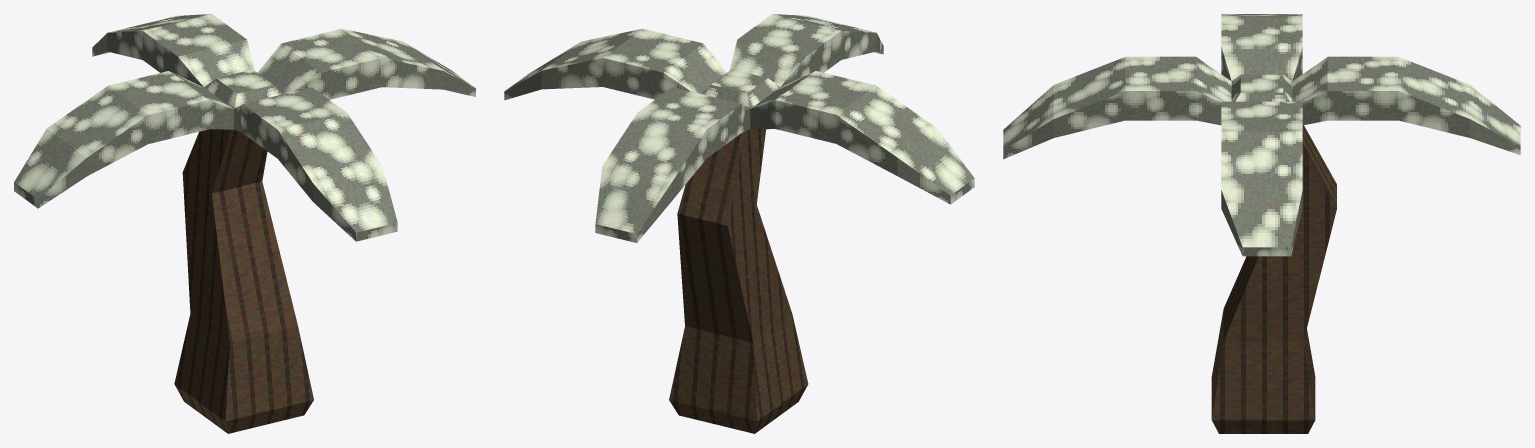
Rendered from palma_chilena.glb.
3 views of the same model, side by side, from view 1: azimuth 30°, elevation 25°; view 2: azimuth 150°, elevation 25°; view 3: azimuth 270°, elevation 25° (orthographic).
Visible parts, largest first — view 1: palma_chilena; view 2: palma_chilena; view 3: palma_chilena.
Boxes of the visible parts, box(x1,y1,x2,y2) form: palma_chilena: box(14, 14, 475, 433); palma_chilena: box(504, 14, 974, 433); palma_chilena: box(1003, 14, 1520, 433).
Bounding box in the file's own units: 12.36 × 9 × 12.36.
Materials: 2 (2 with a texture image).
